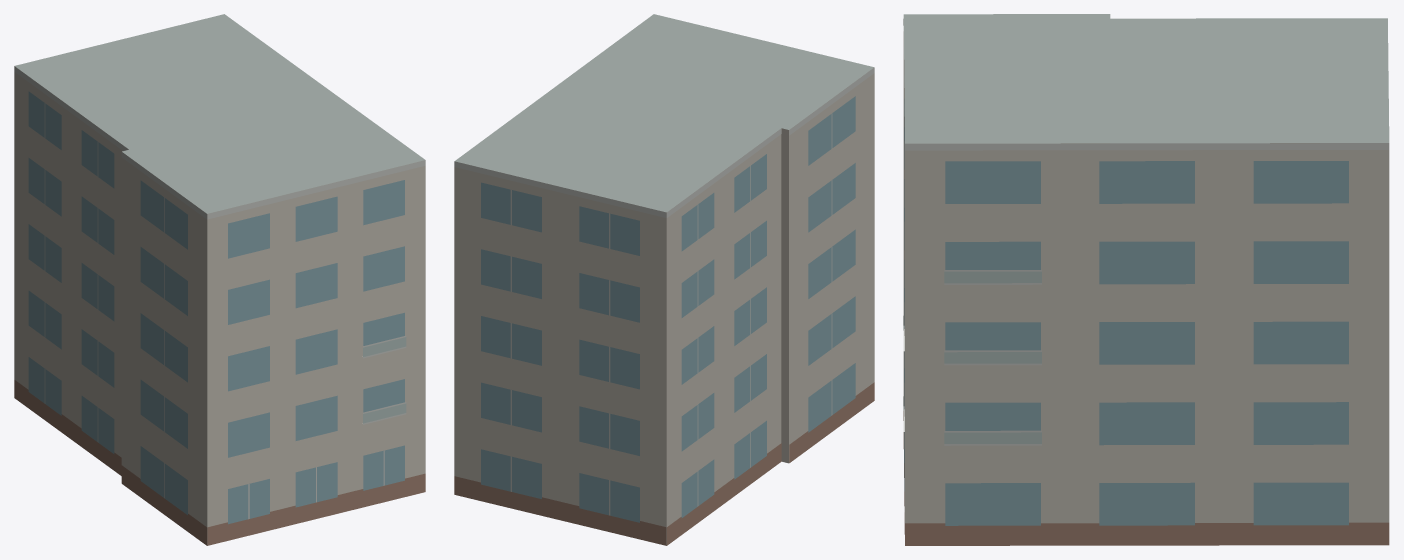
The model's file is survey-upis-32732646.glb.
The picture shows the model from 3 angles, left to right: view 1: azimuth 30°, elevation 25°; view 2: azimuth 150°, elevation 25°; view 3: azimuth 270°, elevation 25°; orthographic projection. The views are drawn at different scales.
Visible parts, largest first — view 1: survey-upis-32732646.tmp; view 2: survey-upis-32732646.tmp; view 3: survey-upis-32732646.tmp.
Part boxes in pixels (<box>): survey-upis-32732646.tmp: <box>14,14,425,545</box>; survey-upis-32732646.tmp: <box>454,14,874,545</box>; survey-upis-32732646.tmp: <box>903,14,1389,545</box>.
Bounding box in the file's own units: 9.86 × 14.2 × 15.56.
